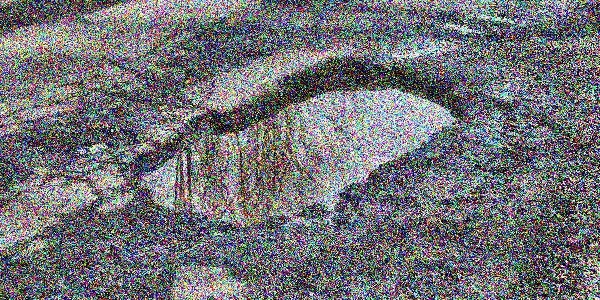pothole: (128, 53, 465, 232), (20, 117, 137, 157)
